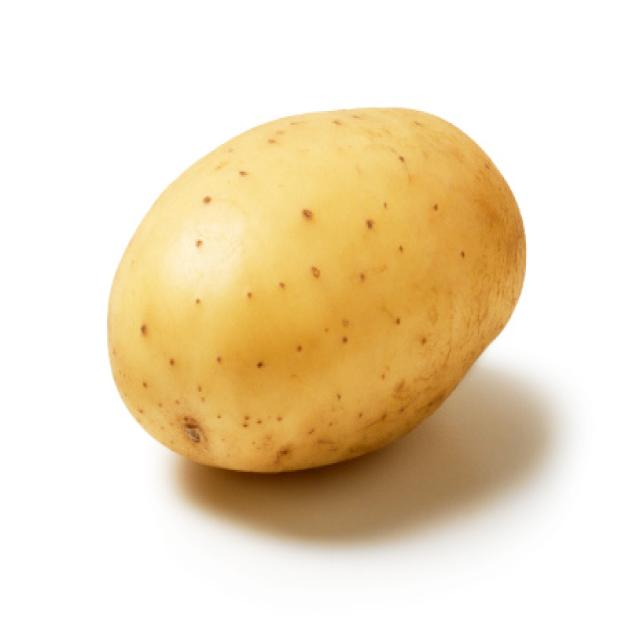potato: (107, 108, 528, 475)
